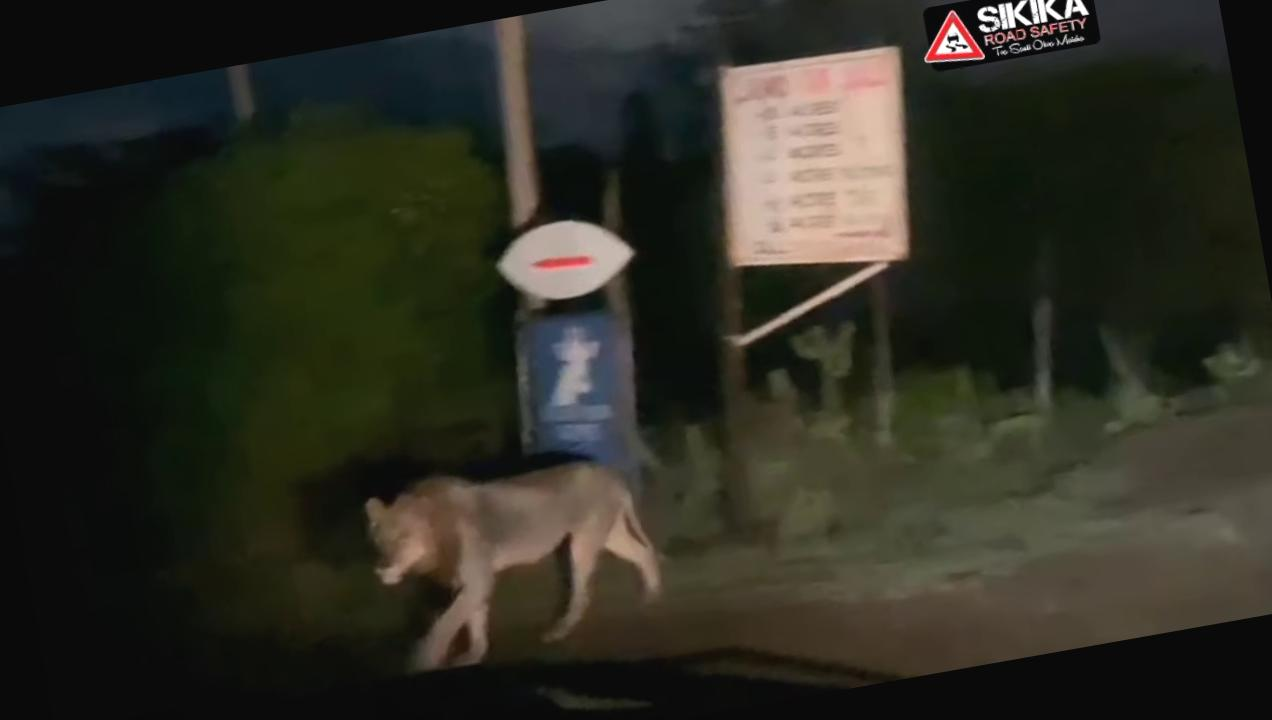lions: (346, 419, 692, 676)
